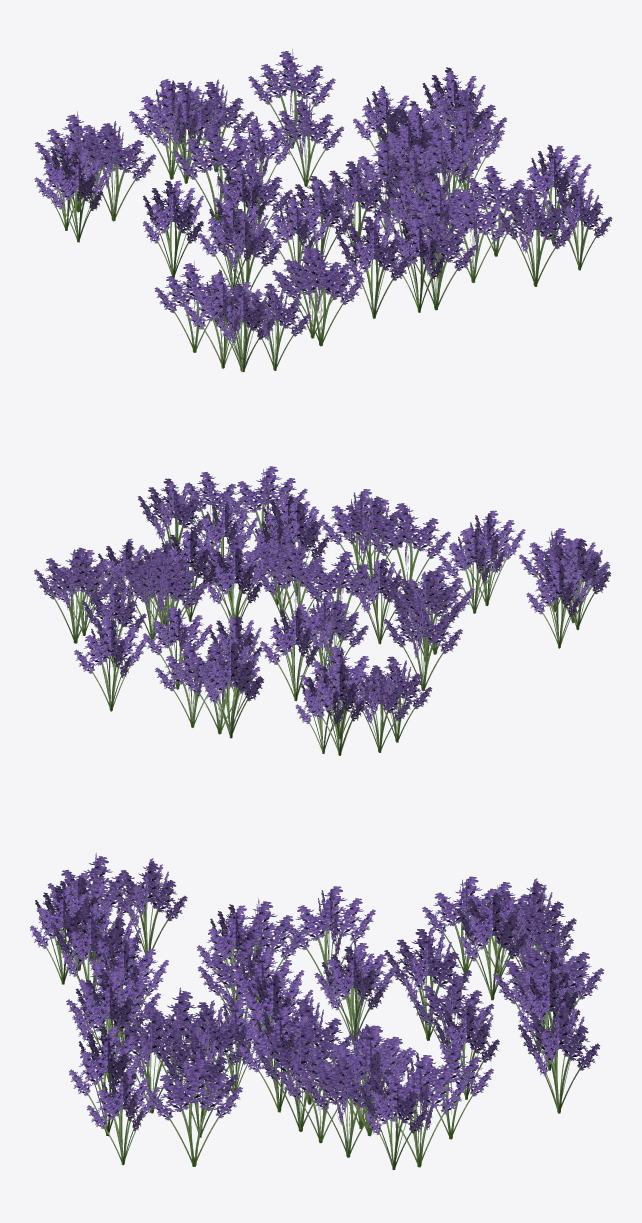
3 renders of one model, top to bottom at view 1: azimuth 30°, elevation 25°; view 2: azimuth 150°, elevation 25°; view 3: azimuth 270°, elevation 25°, orthographic. The views are drawn at different scales.
Parts seen in each view (by area): view 1: red-baron-grass-ornamental-Va7qqJC-600.001_red-baron-grass-o, red-baron-grass-ornamental-Va7qqJC-600_red-baron-grass-ornam; view 2: red-baron-grass-ornamental-Va7qqJC-600_red-baron-grass-ornam, red-baron-grass-ornamental-Va7qqJC-600.001_red-baron-grass-o; view 3: red-baron-grass-ornamental-Va7qqJC-600_red-baron-grass-ornam, red-baron-grass-ornamental-Va7qqJC-600.001_red-baron-grass-o.
Part boxes in pixels (<box>): red-baron-grass-ornamental-Va7qqJC-600.001_red-baron-grass-o: <box>34,51,612,371</box>; red-baron-grass-ornamental-Va7qqJC-600_red-baron-grass-ornam: <box>34,49,599,372</box>; red-baron-grass-ornamental-Va7qqJC-600_red-baron-grass-ornam: <box>64,468,610,755</box>; red-baron-grass-ornamental-Va7qqJC-600.001_red-baron-grass-o: <box>34,466,611,755</box>; red-baron-grass-ornamental-Va7qqJC-600_red-baron-grass-ornam: <box>30,856,599,1169</box>; red-baron-grass-ornamental-Va7qqJC-600.001_red-baron-grass-o: <box>35,852,604,1169</box>.
Bounding box in the file's own units: 458 × 109 × 449.
Materials: 1 (1 with a texture image).
